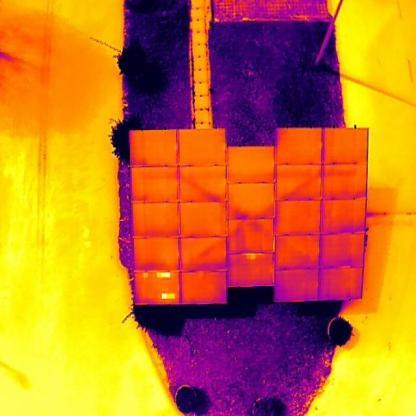anomaly: (158, 291, 179, 300), (152, 270, 171, 279)
